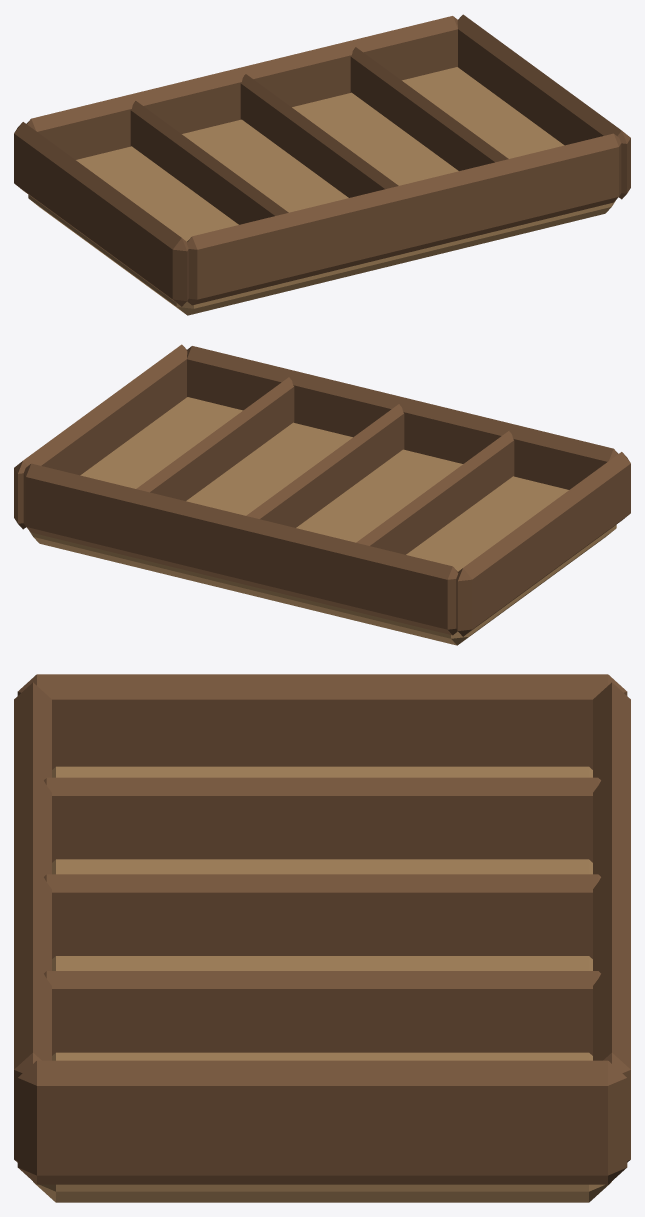
The picture shows the model from 3 angles, top to bottom: view 1: azimuth 30°, elevation 25°; view 2: azimuth 150°, elevation 25°; view 3: azimuth 270°, elevation 25°; orthographic projection. The views are drawn at different scales.
Parts seen in each view (by area): view 1: BA-0029 batched; view 2: BA-0029 batched; view 3: BA-0029 batched.
Boxes of the visible parts, x1=… form: BA-0029 batched: x1=14, y1=14, x2=630, y2=315; BA-0029 batched: x1=14, y1=344, x2=630, y2=645; BA-0029 batched: x1=14, y1=674, x2=630, y2=1202.
Size of the model in its own units: 0.625 by 0.11 by 0.405.
